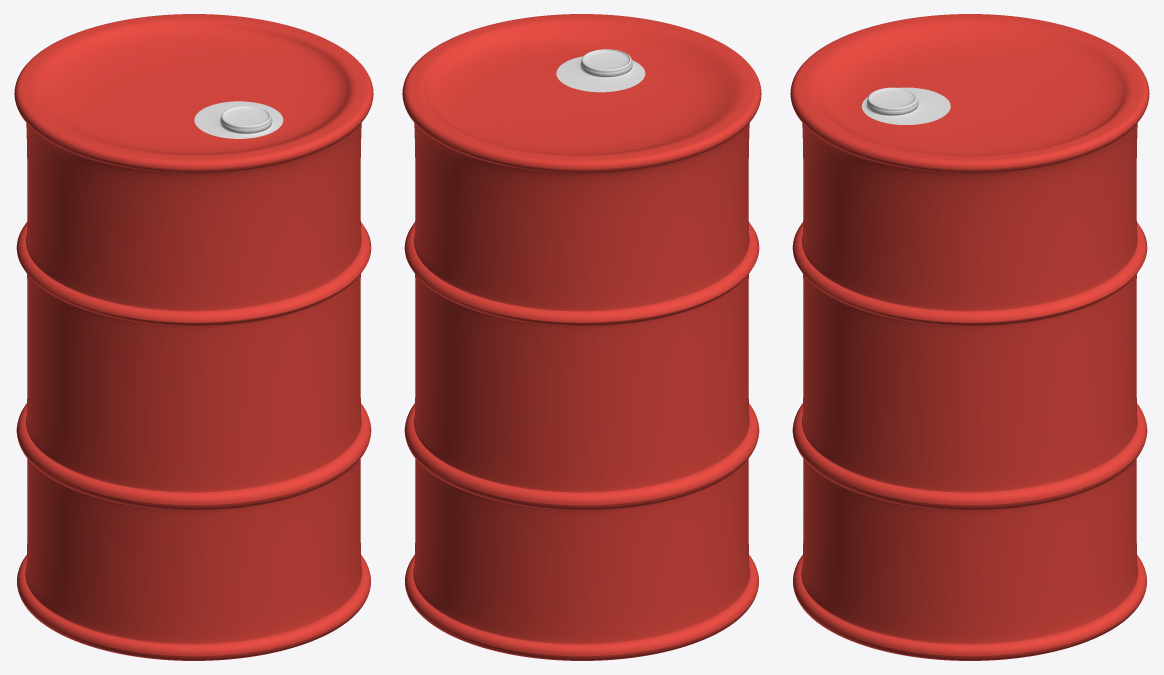
The model's file is Oil Barrel.fbx.
3 renders of one model, left to right at view 1: azimuth 30°, elevation 25°; view 2: azimuth 150°, elevation 25°; view 3: azimuth 270°, elevation 25°, orthographic.
Parts seen in each view (by area): view 1: Cylinder; view 2: Cylinder; view 3: Cylinder.
Part boxes in pixels (<box>): Cylinder: <box>14,14,373,660</box>; Cylinder: <box>402,14,761,660</box>; Cylinder: <box>790,14,1149,660</box>.
Size of the model in its own units: 214 by 330 by 214.
